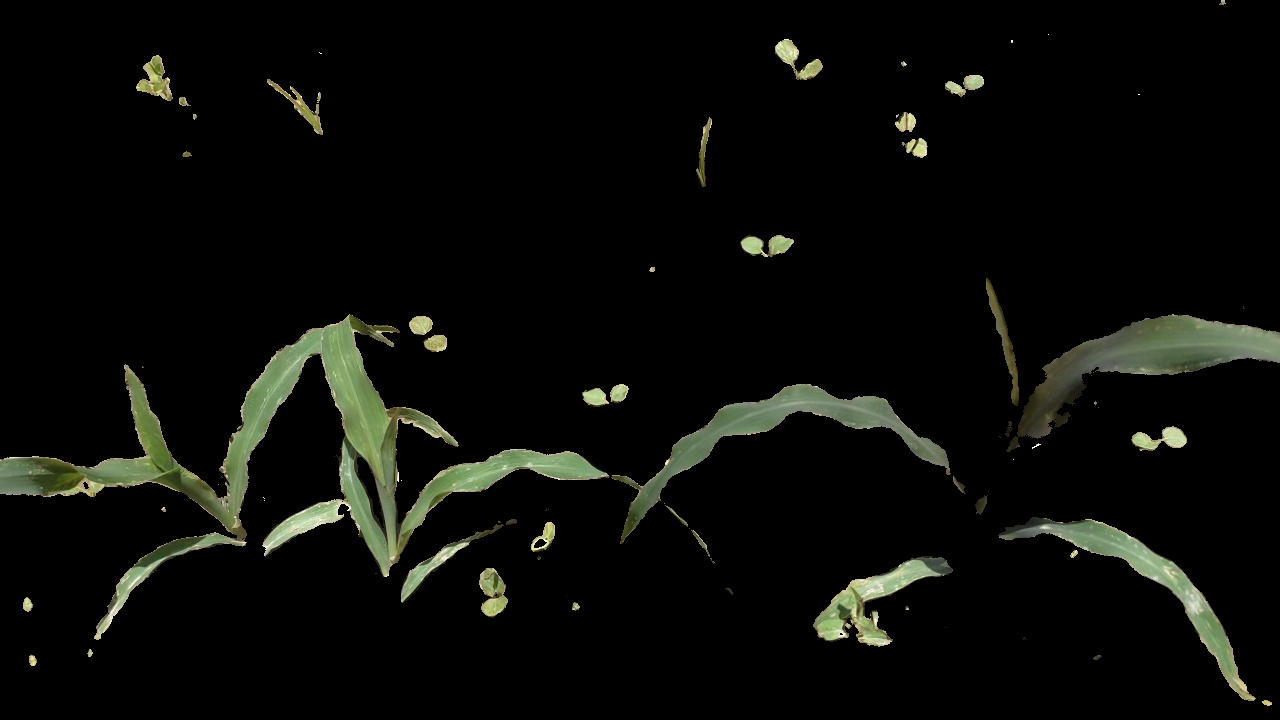crop: (608, 235, 1280, 720), (5, 292, 320, 648), (299, 310, 491, 600)
weed: (249, 72, 340, 149), (130, 50, 198, 127), (679, 110, 730, 195), (395, 297, 456, 363), (764, 33, 830, 85), (731, 224, 802, 271), (1131, 417, 1190, 463), (572, 374, 640, 413), (886, 110, 935, 161), (935, 66, 1004, 100), (476, 565, 511, 623)
